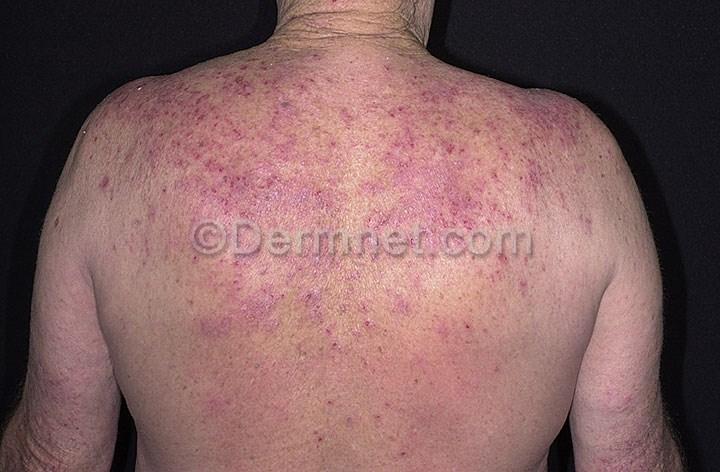Eczema: (233, 245, 429, 425), (342, 76, 495, 221), (431, 225, 568, 363), (92, 200, 232, 334), (110, 80, 235, 199), (493, 108, 612, 219), (237, 52, 354, 147)
